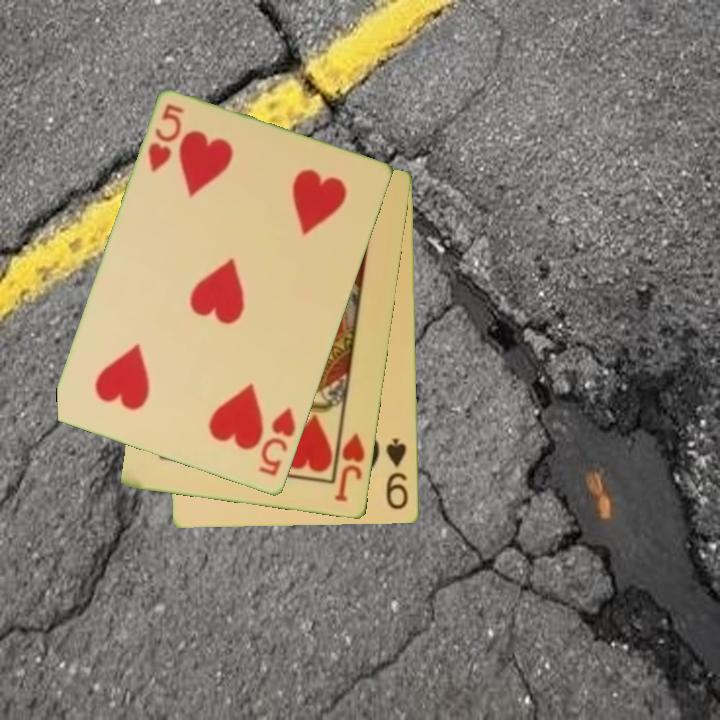5h: (255, 404, 299, 480), (144, 100, 187, 175)
9s: (383, 435, 412, 513)
Jh: (331, 430, 368, 505)
